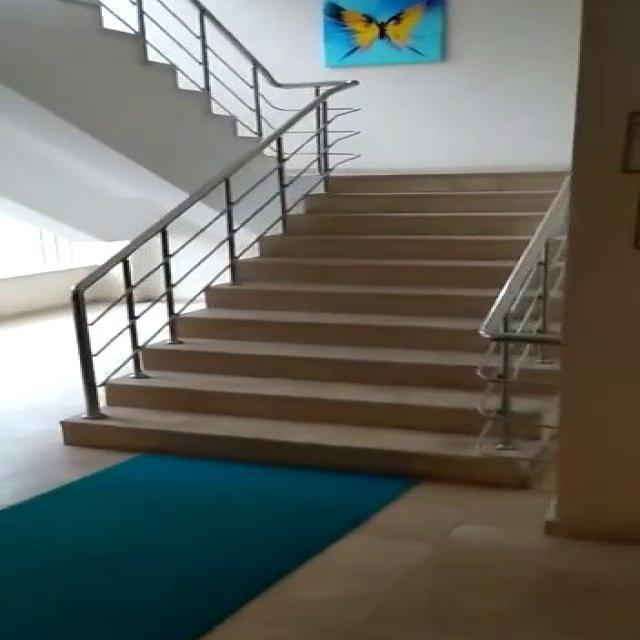stairs: (60, 169, 568, 487)
